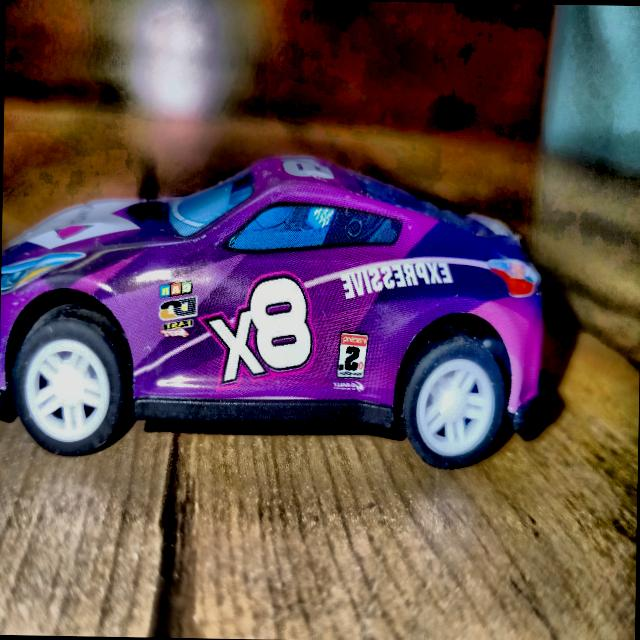Car: (0, 151, 554, 470)
